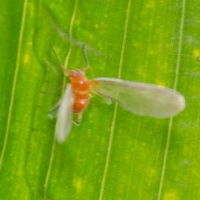insect: (50, 67, 184, 142)
